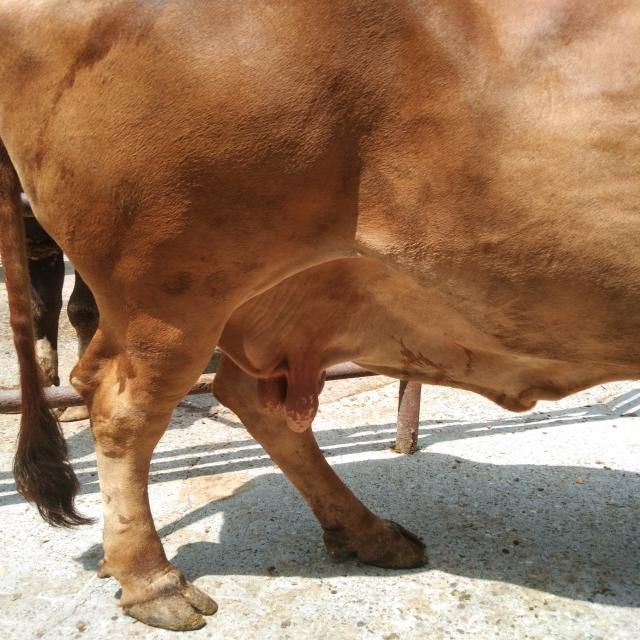Hoof: (118, 571, 218, 632), (321, 518, 428, 570)
